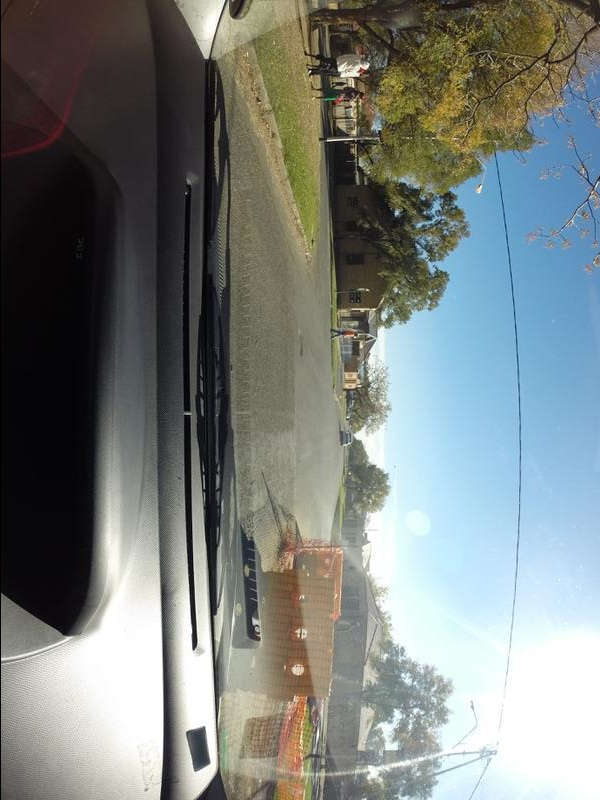pothole: (290, 333, 310, 367)
